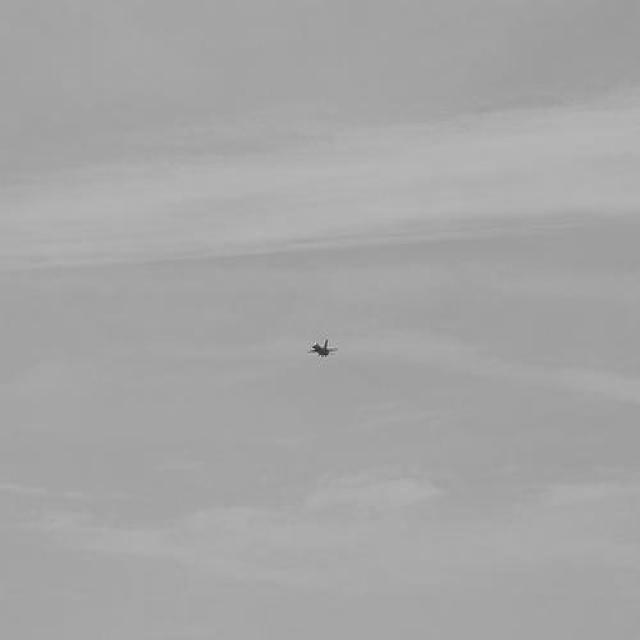aeroplane: (304, 334, 341, 366)
